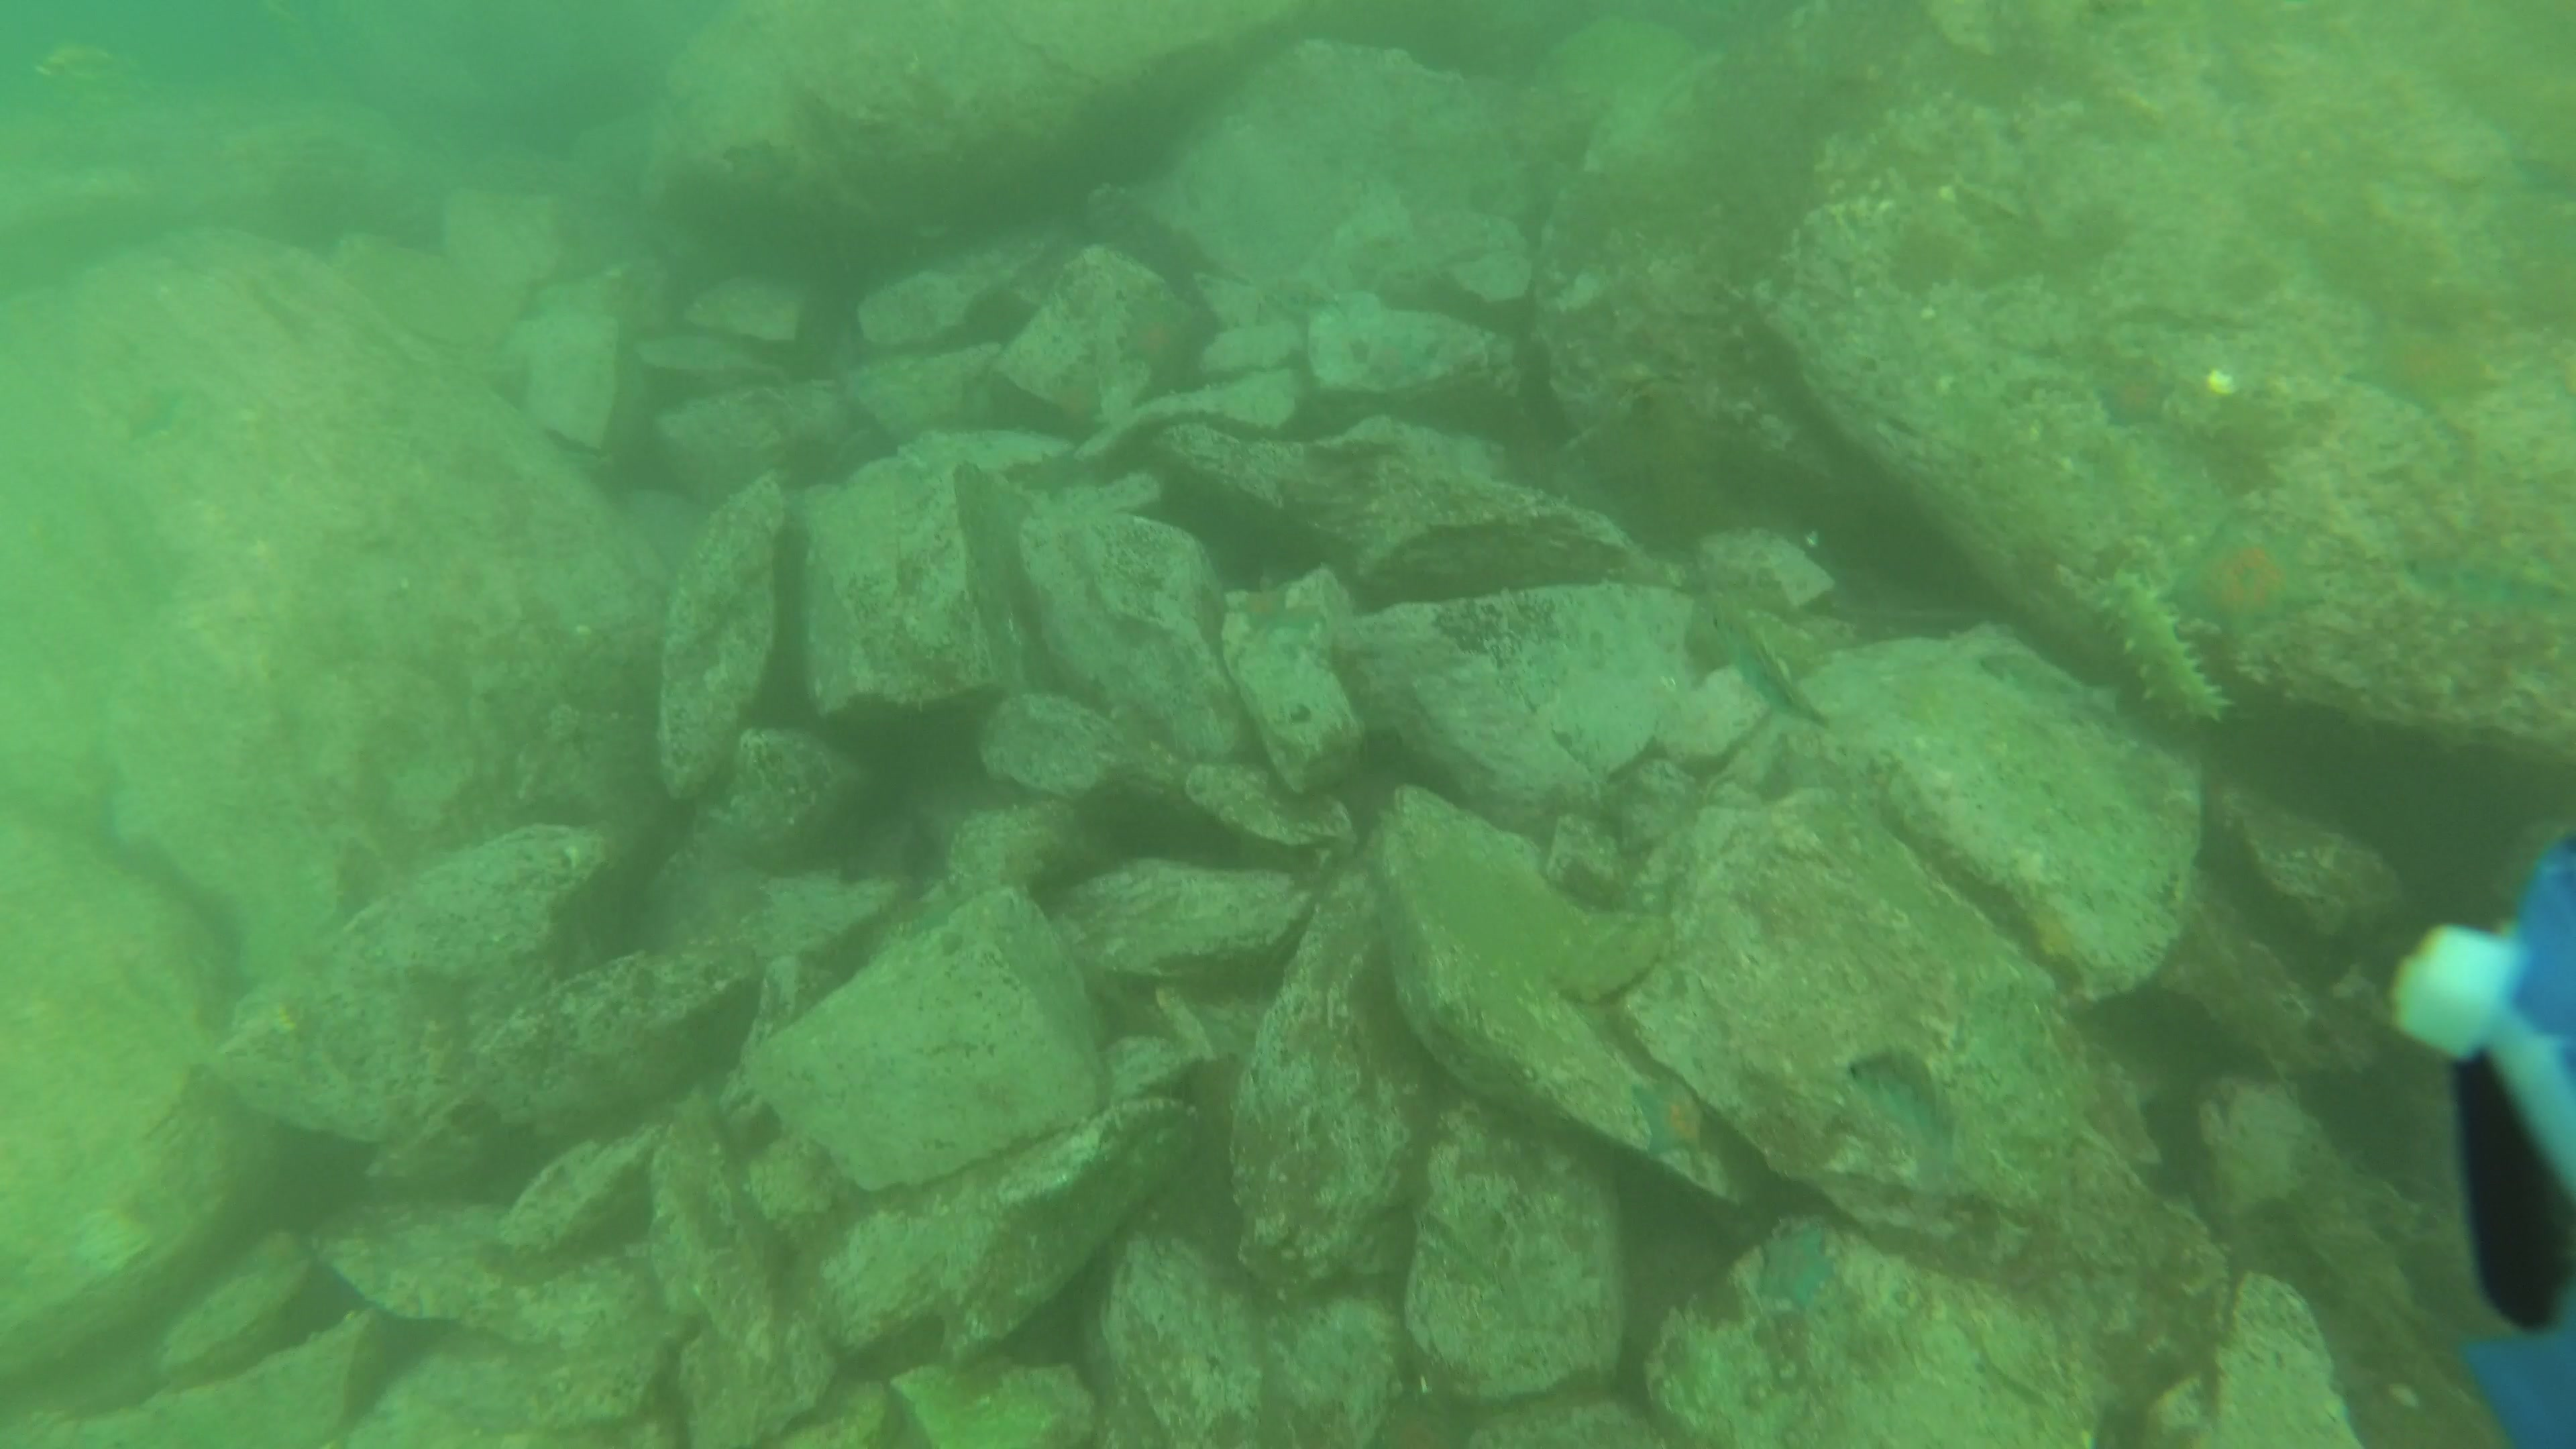holothurian: (2074, 568, 2238, 731)
starfish: (2164, 513, 2332, 648), (2335, 318, 2509, 416), (1750, 1219, 1844, 1315), (1624, 1074, 1711, 1166), (1113, 288, 1194, 377), (2091, 364, 2180, 433), (1040, 373, 1111, 439)
